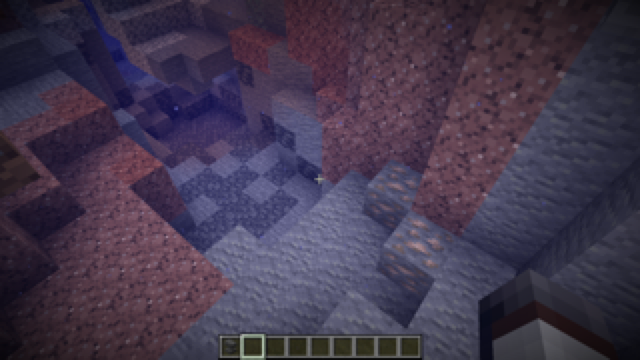iron: (367, 158, 460, 299)
